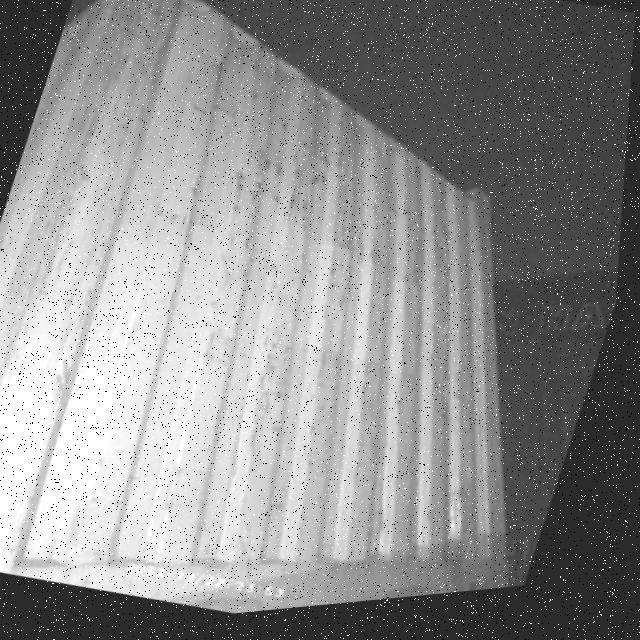rust: (8, 1, 174, 352)
